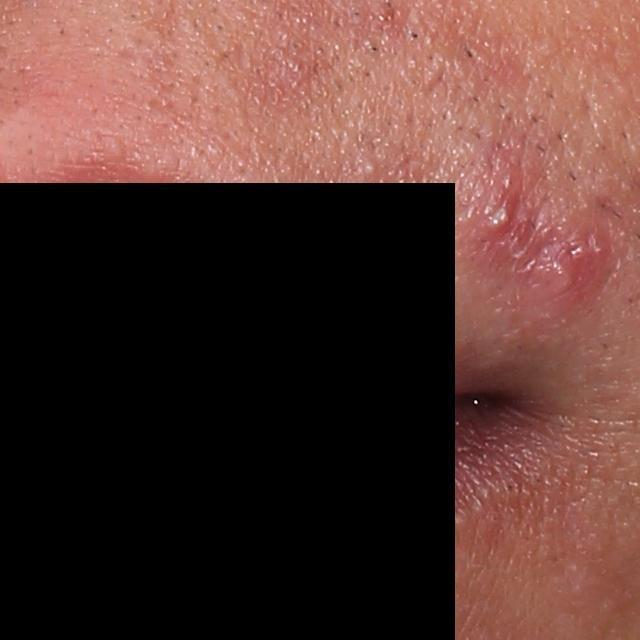comedo: (361, 159, 384, 177)
papule: (523, 227, 609, 301)
